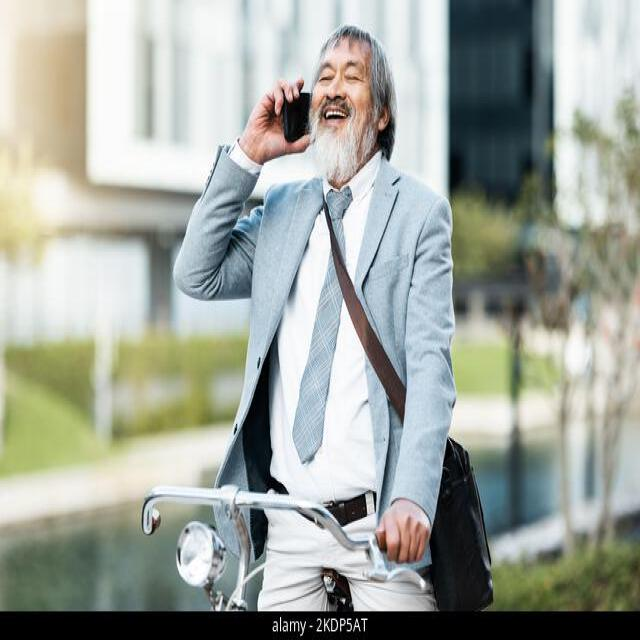Not Wearing Helmet: (314, 23, 398, 272)
Usage Of Phone While Riding: (237, 28, 423, 640)
